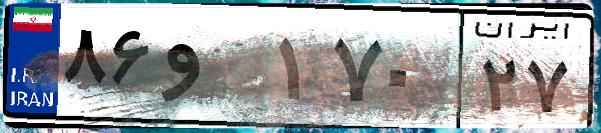0: (385, 28, 445, 110)
1: (270, 28, 330, 110)
2: (475, 38, 525, 113)
6: (110, 28, 158, 98)
7: (330, 28, 385, 110), (525, 38, 570, 115)
8: (57, 26, 110, 100)
و: (158, 20, 270, 120)
